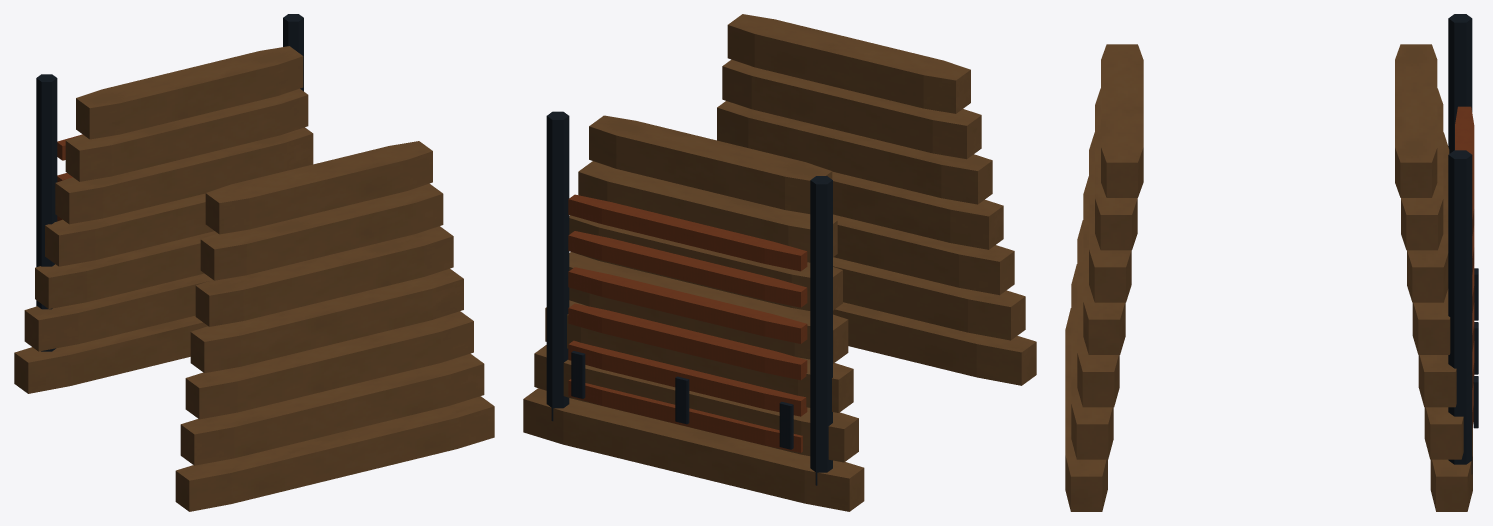
File: siltwake-sluice-bank-0.glb
3 views of the same model, side by side, from view 1: azimuth 30°, elevation 25°; view 2: azimuth 150°, elevation 25°; view 3: azimuth 270°, elevation 25° (orthographic). The views are drawn at different scales.
Visible parts, largest first — view 1: siltwake-sluice-bank_LOD0; view 2: siltwake-sluice-bank_LOD0; view 3: siltwake-sluice-bank_LOD0.
Part boxes in pixels (left/top/right/bottom): siltwake-sluice-bank_LOD0: left=14, top=14, right=494, bottom=511; siltwake-sluice-bank_LOD0: left=523, top=14, right=1036, bottom=511; siltwake-sluice-bank_LOD0: left=1065, top=14, right=1478, bottom=511.
Bounding box in the file's own units: 0.94 × 0.886 × 0.973.
3 materials, 3 textured.
